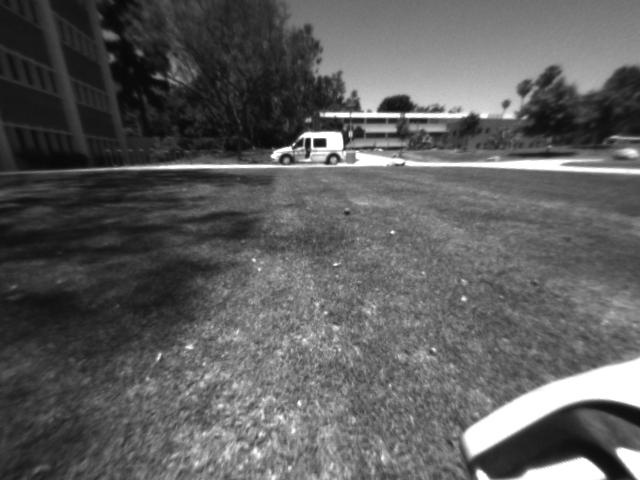dogtoy: (337, 199, 358, 221)
